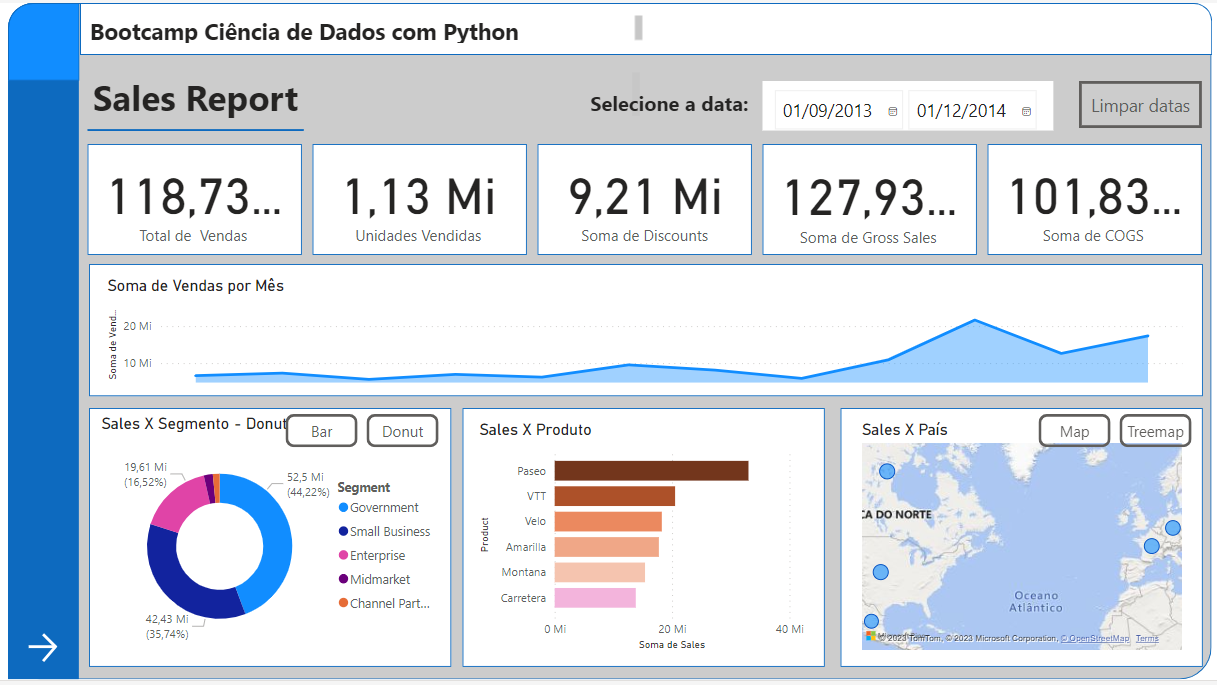

The page's visual inventory and layout, read from the dashboard file:
{"tool":"powerbi","page":{"name":"Página 1","canvas":[1280,720],"ordinal":0},"visuals":[{"type":"shape","box":[0,0,1280,719.3],"z":0},{"type":"shape","box":[84.1,150.5,228.1,118.1],"z":0,"group":"g1"},{"type":"shape","box":[0,0,75.5,719.3],"z":1000},{"type":"shape","box":[1041.1,150.5,228.1,118.1],"z":1000,"group":"g1"},{"type":"shape","box":[0,0,76,82.5],"z":2000},{"type":"shape","box":[322.7,150.5,228.1,118.1],"z":2000,"group":"g1"},{"type":"shape","box":[76,0,1203.8,55],"z":3000},{"type":"shape","box":[562.2,150.5,228.1,118.1],"z":3000,"group":"g1"},{"type":"shape","box":[801.6,150.5,228.1,118.1],"z":4000,"group":"g1"},{"type":"textbox","box":[80.9,8.1,598.7,38.8],"z":4000},{"type":"card","fields":{"Values":["Sum(financials. Sales)"]},"box":[97,157,199,105.2],"z":5000,"group":"g1"},{"type":"group","id":"g1","title":"Cartões","box":[84.1,150.5,1185.1,118.1],"z":5000},{"type":"shape","box":[84.1,116.5,229.8,37.2],"z":6000},{"type":"textbox","box":[84.6,69.3,592.5,57.7],"z":7000},{"type":"shape","box":[85.8,278.3,1184.4,140.8],"z":8000},{"type":"shape","box":[85.8,430.4,385.1,275.1],"z":9000},{"type":"shape","box":[483.8,430.4,385.1,275.1],"z":10000},{"type":"shape","box":[885,430.4,385.1,275.1],"z":11000},{"type":"areaChart","fields":{"Category":["financials.Date.Variation.Hierarquia de datas.Mês"],"Y":["Sum(financials. Sales)"]},"box":[100.3,289.6,1153.6,118.1],"z":12000},{"type":"card","fields":{"Values":["Sum(financials.Units Sold)"]},"box":[336.5,156.9,199,105.2],"z":13000},{"type":"card","fields":{"Values":["Sum(financials.Discounts)"]},"box":[577.6,156.9,199,105.2],"z":14000},{"type":"card","fields":{"Values":["Sum(financials.Gross Sales)"]},"box":[815.5,158.6,199,105.2],"z":15000},{"type":"card","fields":{"Values":["Sum(financials.COGS)"]},"box":[1054.9,156.9,199,105.2],"z":16000},{"type":"clusteredBarChart","title":"Sales X Produto","fields":{"Y":["Sum(financials. Sales)"],"Category":["financials.Product"]},"box":[496.5,443.7,354.9,249.2],"z":18000},{"type":"map","title":"Sales X País","fields":{"Category":["financials.Country"],"Size":["Sum(financials. Sales)"]},"box":[902.4,443.7,351.2,249.2],"z":19000},{"type":"slicer","fields":{"Values":["financials.Date"]},"box":[802.4,83.1,309.6,52.9],"z":20000},{"type":"textbox","box":[613.6,86.8,188.8,45.3],"z":21000},{"type":"donutChart","title":"Sales X Segmento - Donut","fields":{"Y":["Sum(financials. Sales)"],"Category":["financials.Segment"]},"box":[94.3,436.7,369.4,261.6],"z":22000},{"type":"actionButton","box":[15.4,665.7,59.6,40.4],"z":23000},{"type":"actionButton","box":[1138.9,82.7,130.8,50],"z":24000},{"type":"actionButton","box":[294.4,436.7,77,35],"z":25000},{"type":"actionButton","box":[380.9,436.7,77,35],"z":26000},{"type":"actionButton","box":[1095.7,436.5,77,35],"z":28000},{"type":"actionButton","box":[1182.3,436.5,77,35],"z":29000}]}

Visuals, with their boxes in screenshot pixels (x1, y1, x2, y2), scaled from the page's 1280x720 canvas onto the 1217x685 screenshot:
shape: [0,0,1216,684]
shape: [80,143,297,256]
shape: [0,0,72,684]
shape: [990,143,1207,256]
shape: [0,0,72,78]
shape: [307,143,524,256]
shape: [72,0,1216,52]
shape: [535,143,751,256]
shape: [762,143,979,256]
textbox: [77,8,646,45]
card - Sum(financials. Sales): [92,149,281,249]
"Cartões" group: [80,143,1207,256]
shape: [80,111,298,146]
textbox: [80,66,644,121]
shape: [82,265,1208,399]
shape: [82,409,448,671]
shape: [460,409,826,671]
shape: [841,409,1208,671]
areaChart - financials.Date.Variation.Hierarquia de datas.Mês x Sum(financials. Sales): [95,276,1192,388]
card - Sum(financials.Units Sold): [320,149,509,249]
card - Sum(financials.Discounts): [549,149,738,249]
card - Sum(financials.Gross Sales): [775,151,965,251]
card - Sum(financials.COGS): [1003,149,1192,249]
"Sales X Produto" clusteredBarChart: [472,422,809,659]
"Sales X País" map: [858,422,1192,659]
slicer - financials.Date: [763,79,1057,129]
textbox: [583,83,763,126]
"Sales X Segmento - Donut" donutChart: [90,415,441,664]
actionButton: [15,633,71,672]
actionButton: [1083,79,1207,126]
actionButton: [280,415,353,449]
actionButton: [362,415,435,449]
actionButton: [1042,415,1115,449]
actionButton: [1124,415,1197,449]
